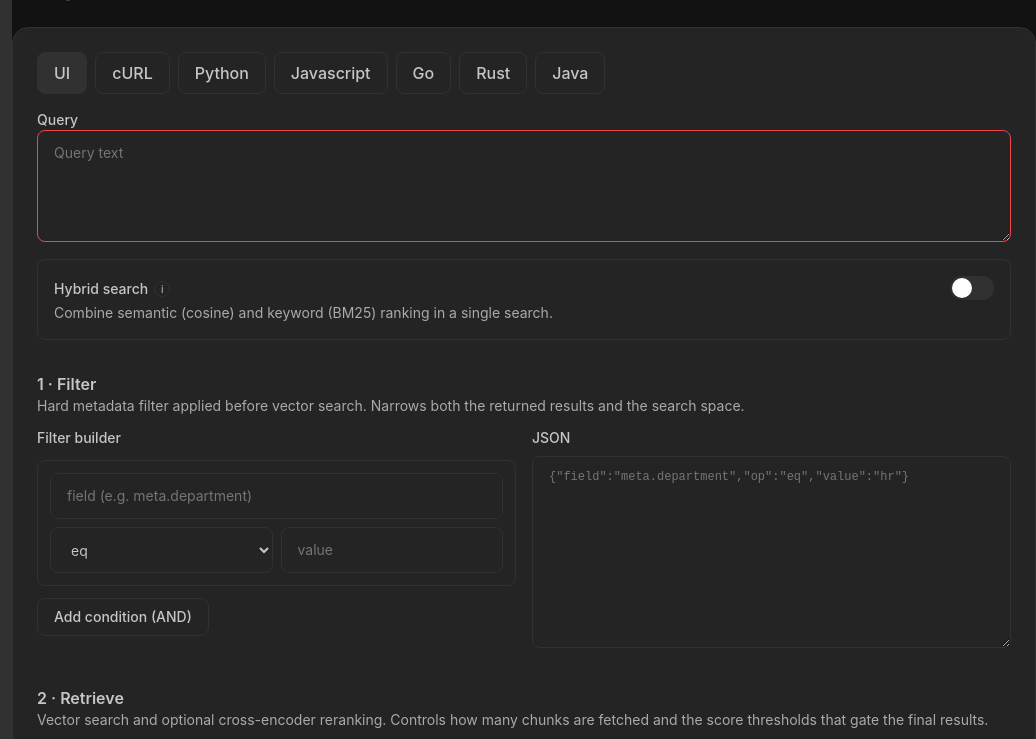
Test: PlaygroundPage › enables run query when text is entered
Type "hello" into the text box with placeholder "Query text" at (524,186), box x1=37 y1=130 x2=1011 y2=242
(page scrolled)
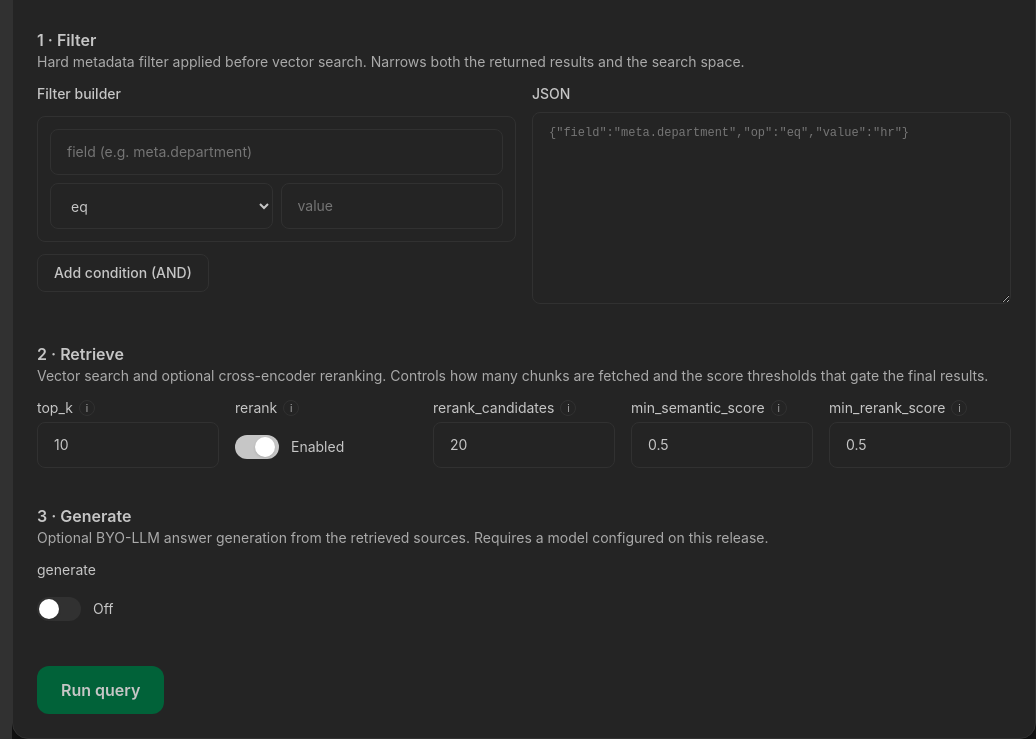
Expected: the button "Run query" is enabled, x1=37 y1=666 x2=164 y2=714
